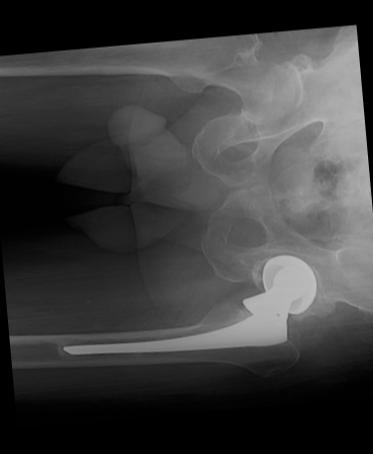fractured: (211, 299, 251, 319)
